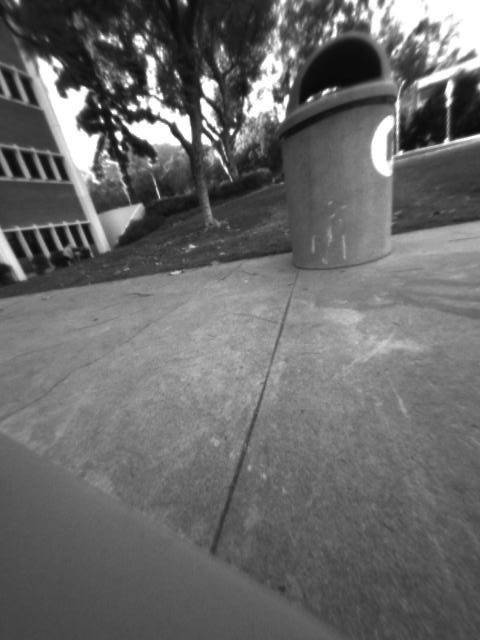trashcan: (275, 31, 403, 270)
